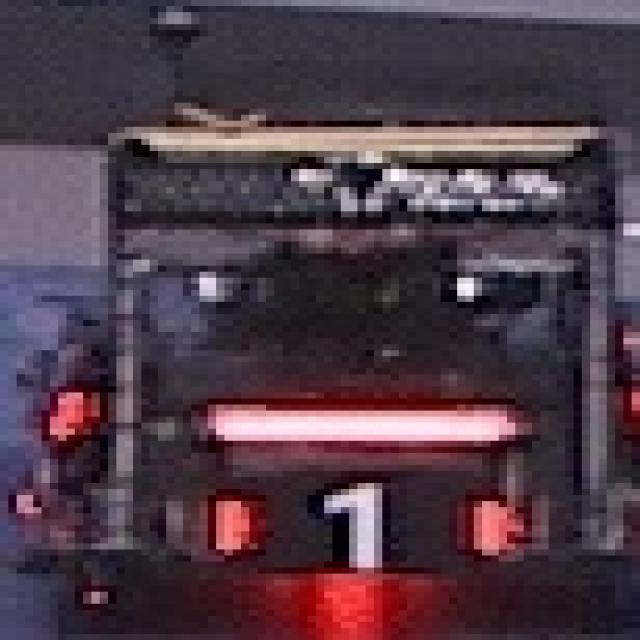R1: (200, 477, 516, 574)
